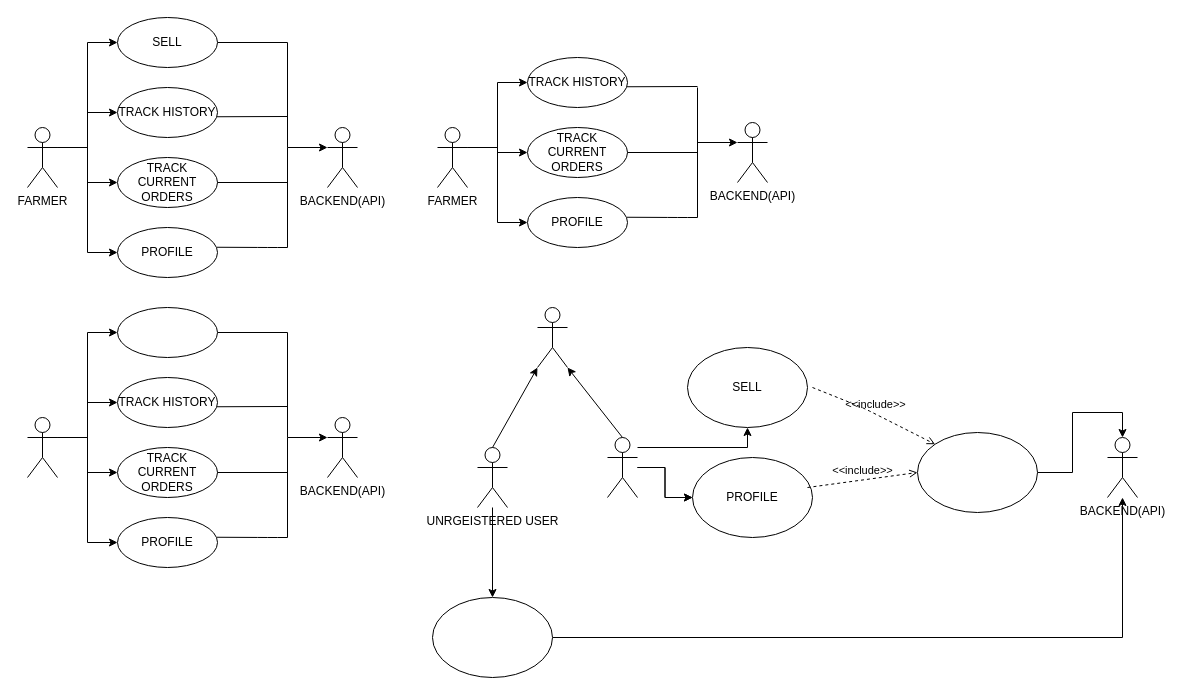
Some shapes in this 1182 by 695 pixel diagram are drawn without their labels. Here are the shapes that lost their labels. From the top down, the centre of each, then its label:
point 167,332: BUY
point 552,337: USER
point 42,447: BUYER
point 622,467: REGISTERED USER
point 977,472: LOGIN
point 492,637: REGISTER
